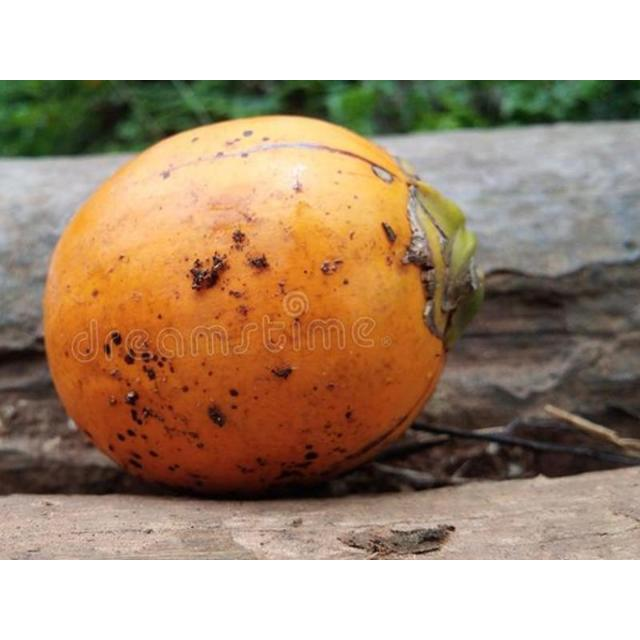good: (42, 115, 481, 499)
